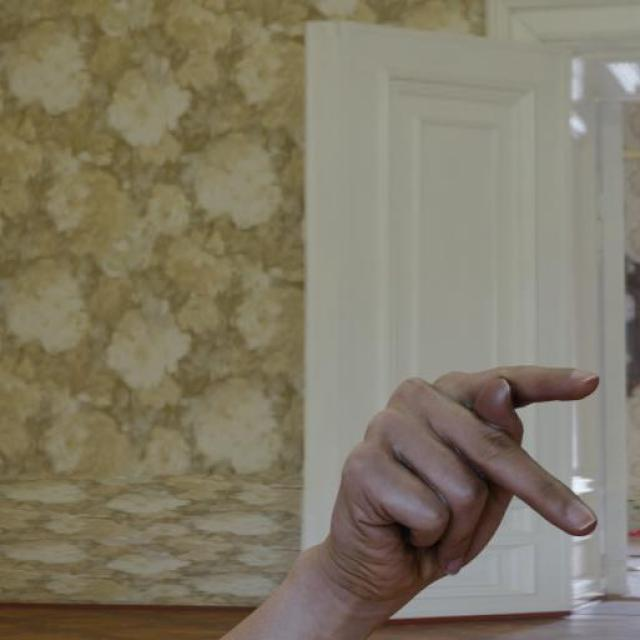P: (259, 339, 626, 640)
